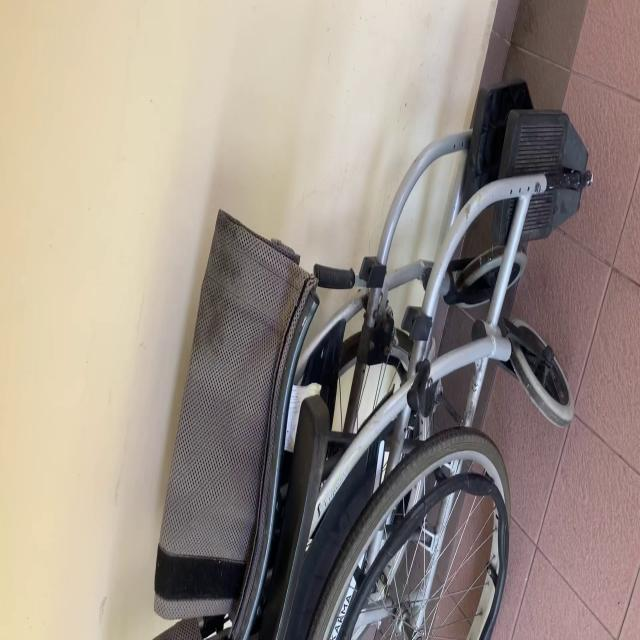wheelchair: (142, 69, 602, 640)
